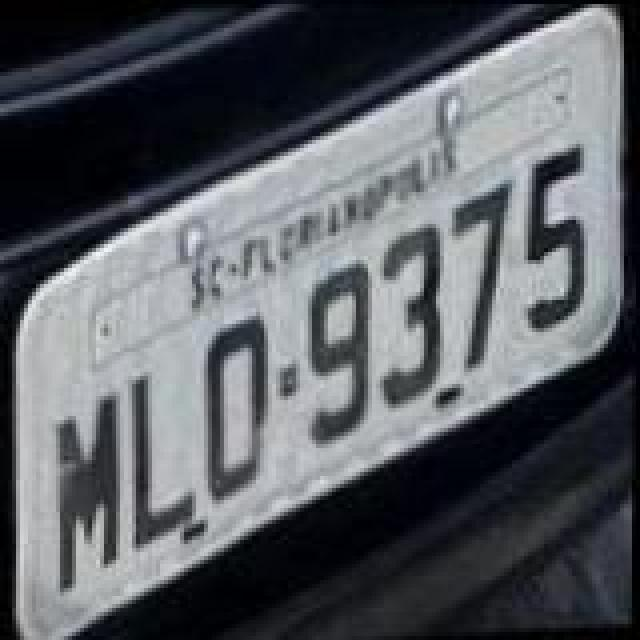3: (368, 216, 456, 408)
5: (514, 142, 598, 338)
7: (444, 176, 524, 368)
9: (296, 260, 384, 448)
L: (124, 368, 204, 548)
M: (44, 388, 132, 596)
O: (194, 314, 282, 510)
